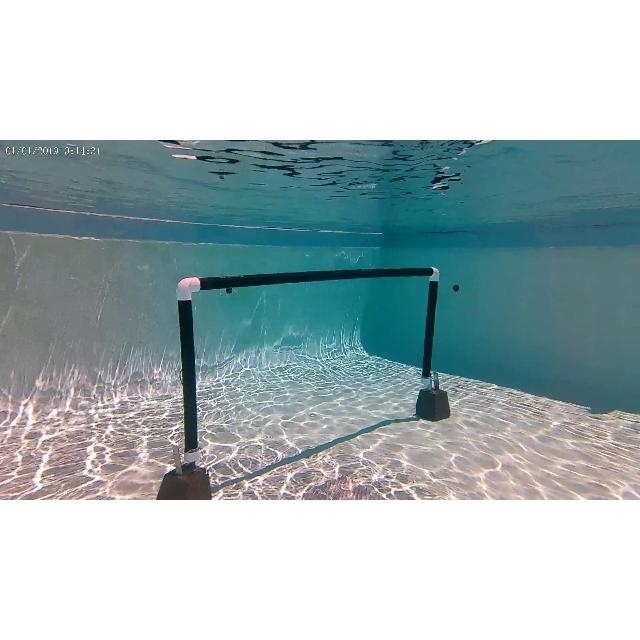prequal gate: (175, 265, 438, 461)
prequal gate leg l: (174, 276, 208, 499)
prequal gate leg r: (420, 264, 446, 420)
